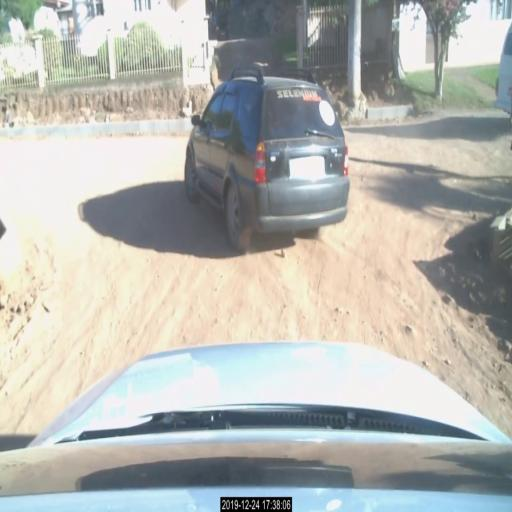Pothole: (0, 118, 512, 442)
